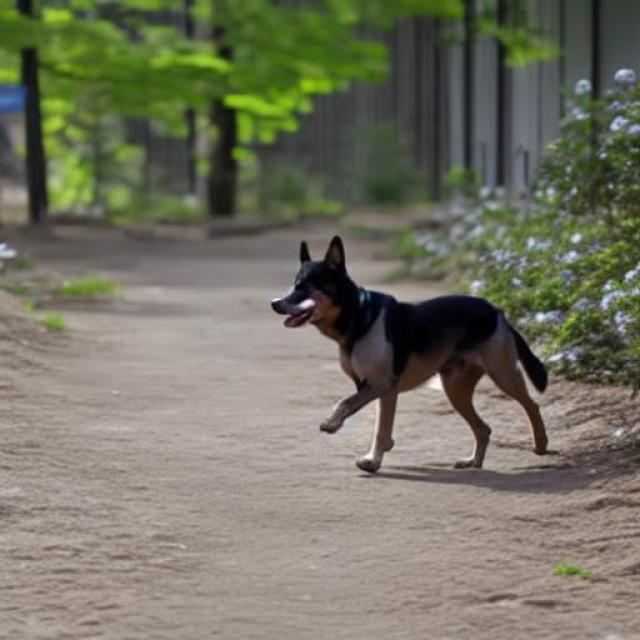Dog: (271, 234, 548, 474)
